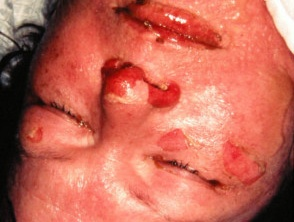SJS-TEN: (105, 0, 254, 50), (93, 56, 187, 115), (208, 129, 274, 192), (150, 124, 195, 164), (16, 121, 55, 153), (134, 147, 170, 174), (201, 177, 240, 197)
